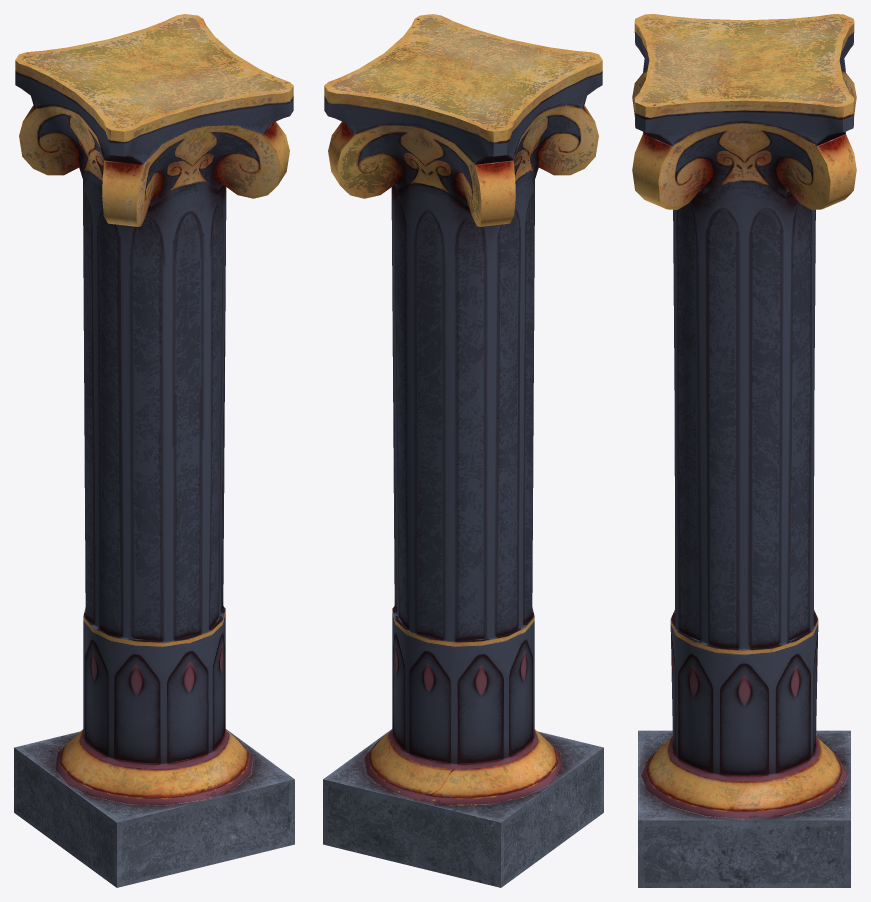
The model's file is sb_obj_DemonsCastle002_Altar02.fbx.
3 renders of one model, left to right at view 1: azimuth 30°, elevation 25°; view 2: azimuth 150°, elevation 25°; view 3: azimuth 270°, elevation 25°, orthographic. The views are drawn at different scales.
Visible parts, largest first — view 1: sb_obj_DemonsCastle002_Altar02; view 2: sb_obj_DemonsCastle002_Altar02; view 3: sb_obj_DemonsCastle002_Altar02.
Part boxes in pixels (x1,y1,x2,y2): sb_obj_DemonsCastle002_Altar02: (14, 14, 294, 887); sb_obj_DemonsCastle002_Altar02: (323, 14, 603, 887); sb_obj_DemonsCastle002_Altar02: (632, 14, 856, 887).
Size of the model in its own units: 0.8442 by 3.25 by 0.8442.
